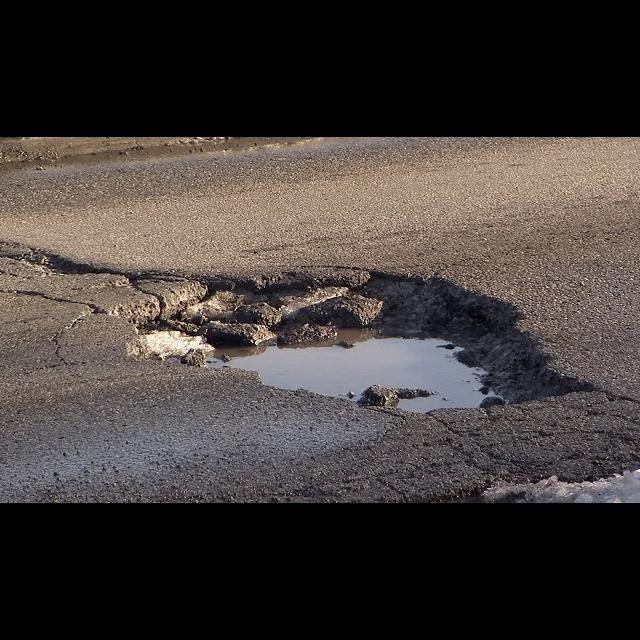lubang_kecil: (118, 247, 574, 424), (0, 219, 109, 301)
